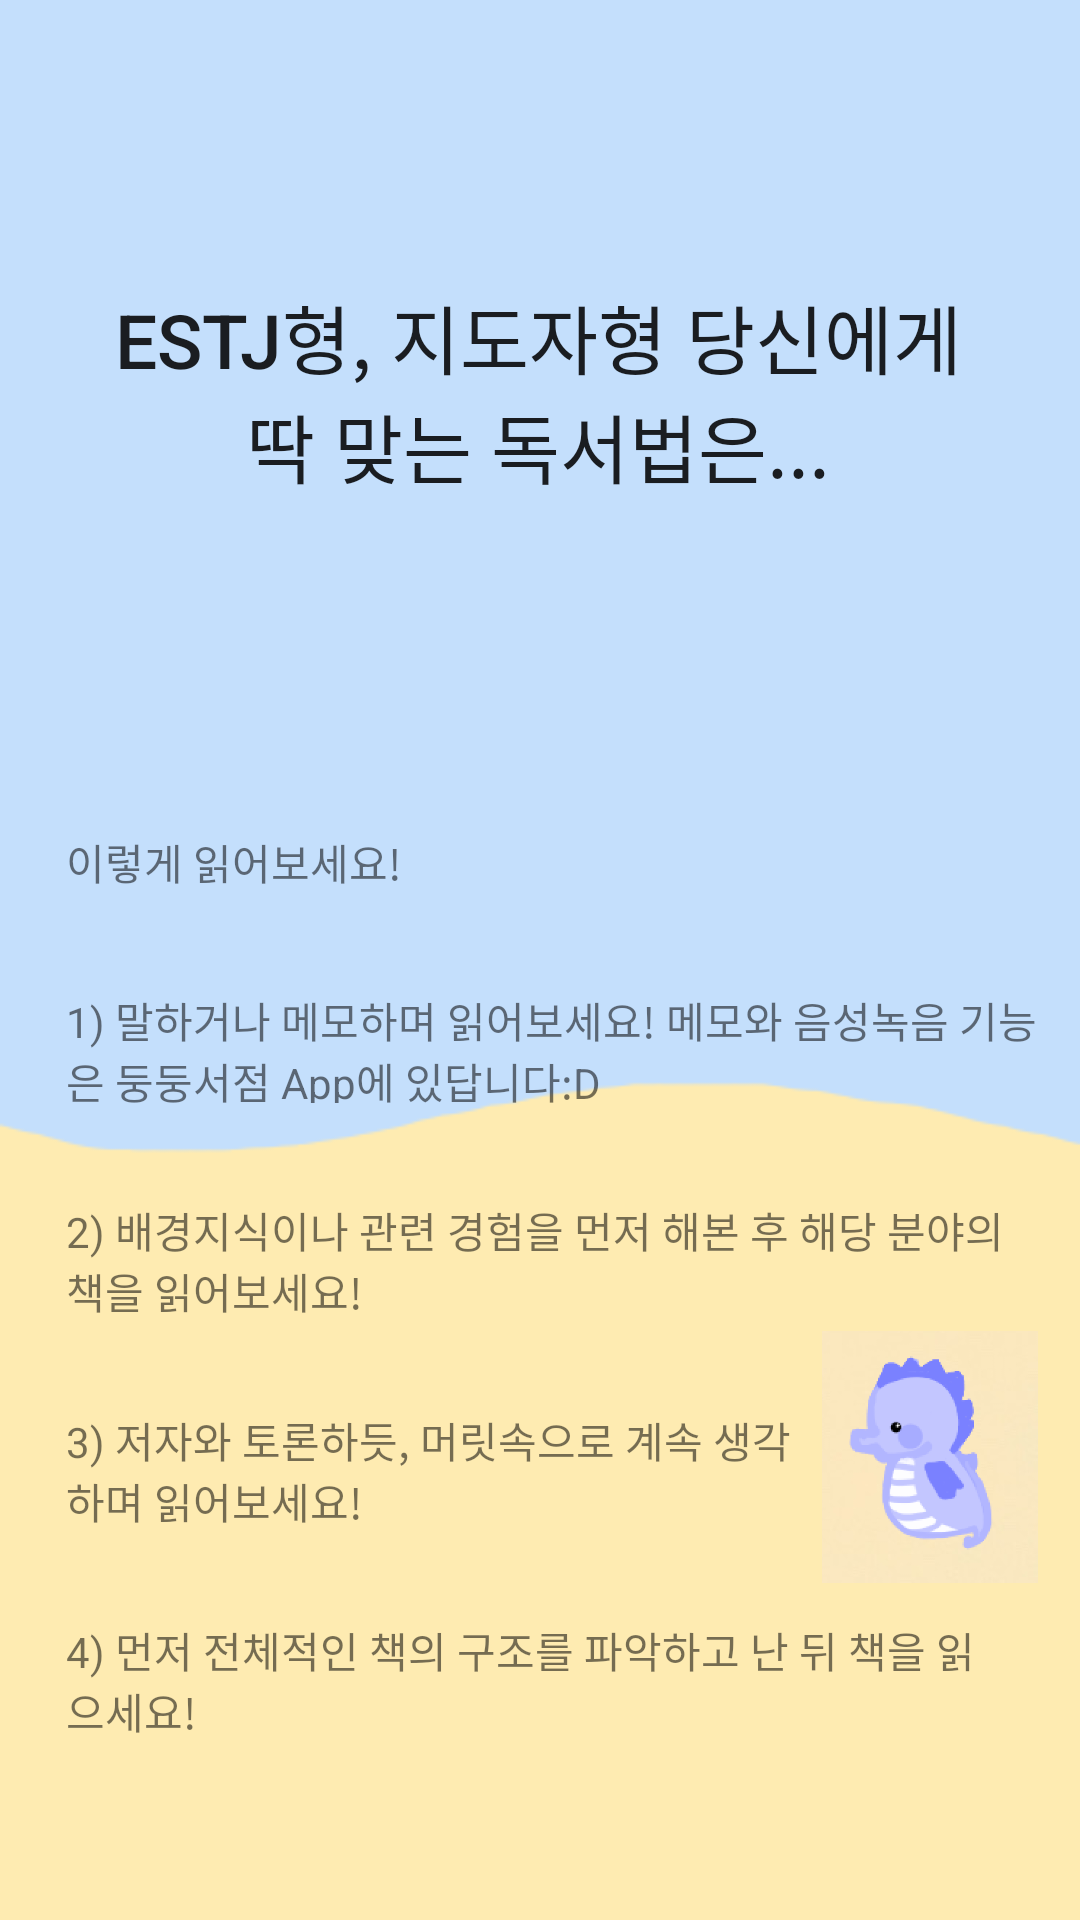

Screen size 1080px×1920px. Icon name, then its center in pixels as point (x, y):
seahorse: point (920, 1453)
